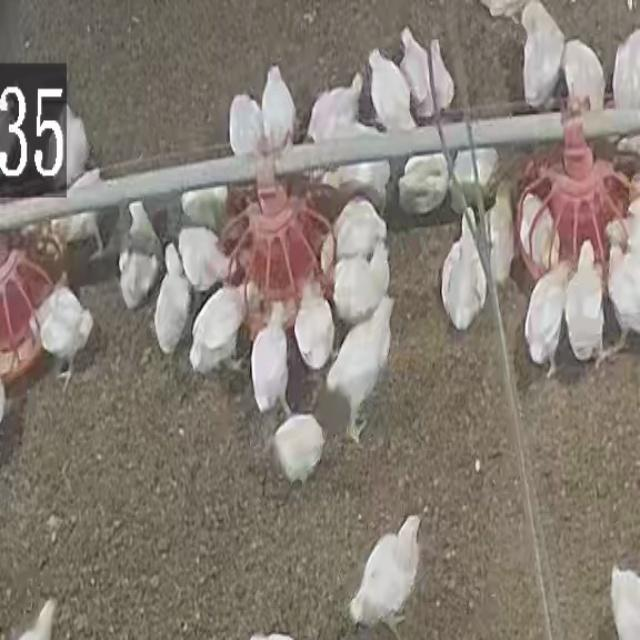chicken: (341, 514, 423, 630), (323, 299, 398, 423), (175, 280, 259, 375), (26, 278, 95, 373), (437, 210, 490, 330), (524, 259, 571, 373), (326, 245, 394, 319), (118, 196, 160, 305), (519, 0, 561, 107), (248, 305, 290, 408), (370, 50, 420, 134), (307, 71, 364, 143), (571, 244, 603, 370), (154, 243, 192, 349), (312, 157, 388, 207), (273, 412, 323, 487), (480, 186, 517, 285), (328, 202, 390, 260), (180, 220, 235, 285), (605, 242, 640, 344), (396, 26, 435, 116), (450, 144, 501, 212), (291, 284, 328, 374), (262, 64, 301, 149), (562, 41, 601, 120), (397, 155, 447, 215), (607, 32, 640, 116), (522, 190, 558, 266), (606, 563, 640, 640), (228, 90, 259, 155), (429, 35, 452, 120)
